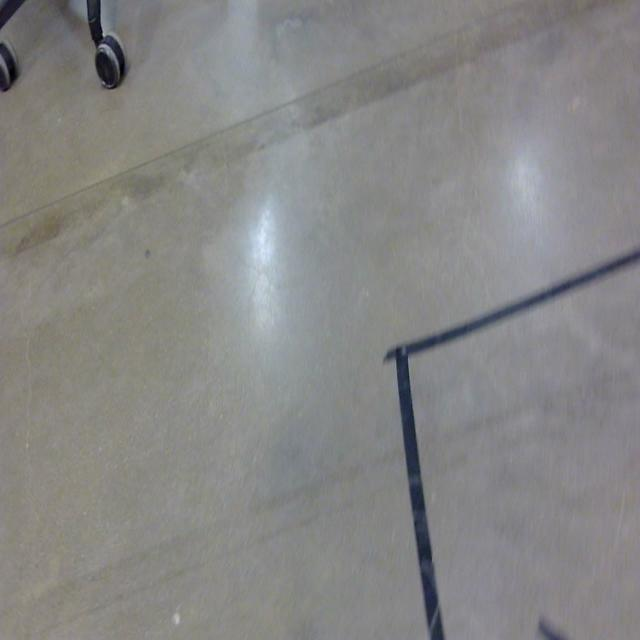tape: (366, 212, 640, 640)
